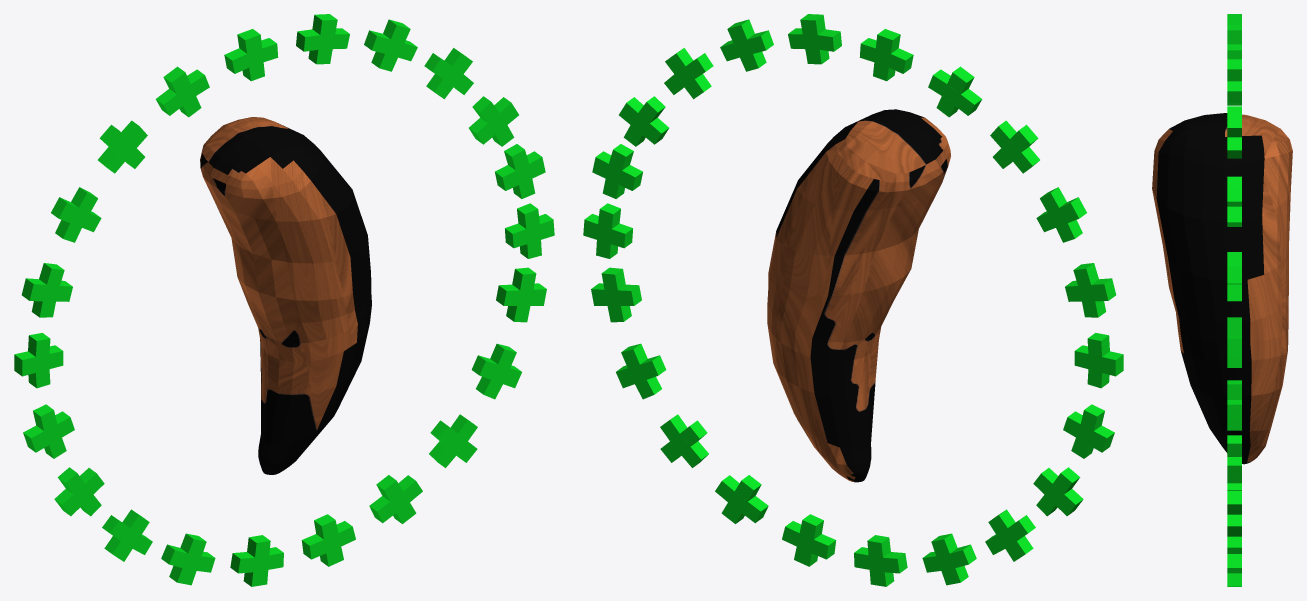
Rendered from WhaleTooth.fbx.
The picture shows the model from 3 angles, left to right: view 1: azimuth 30°, elevation 25°; view 2: azimuth 150°, elevation 25°; view 3: azimuth 270°, elevation 25°; orthographic projection. The views are drawn at different scales.
Visible parts, largest first — view 1: Cube, Cube.054; view 2: Cube, Cube.054; view 3: Cube, Cube.054.
Boxes of the visible parts, <box> form: Cube: <box>200,117,371,474</box>; Cube.054: <box>14,14,554,586</box>; Cube: <box>767,109,950,482</box>; Cube.054: <box>583,14,1123,586</box>; Cube: <box>1152,113,1292,464</box>; Cube.054: <box>1227,14,1241,586</box>.
Bounding box in the file's own units: 1324 × 1310 × 323.
